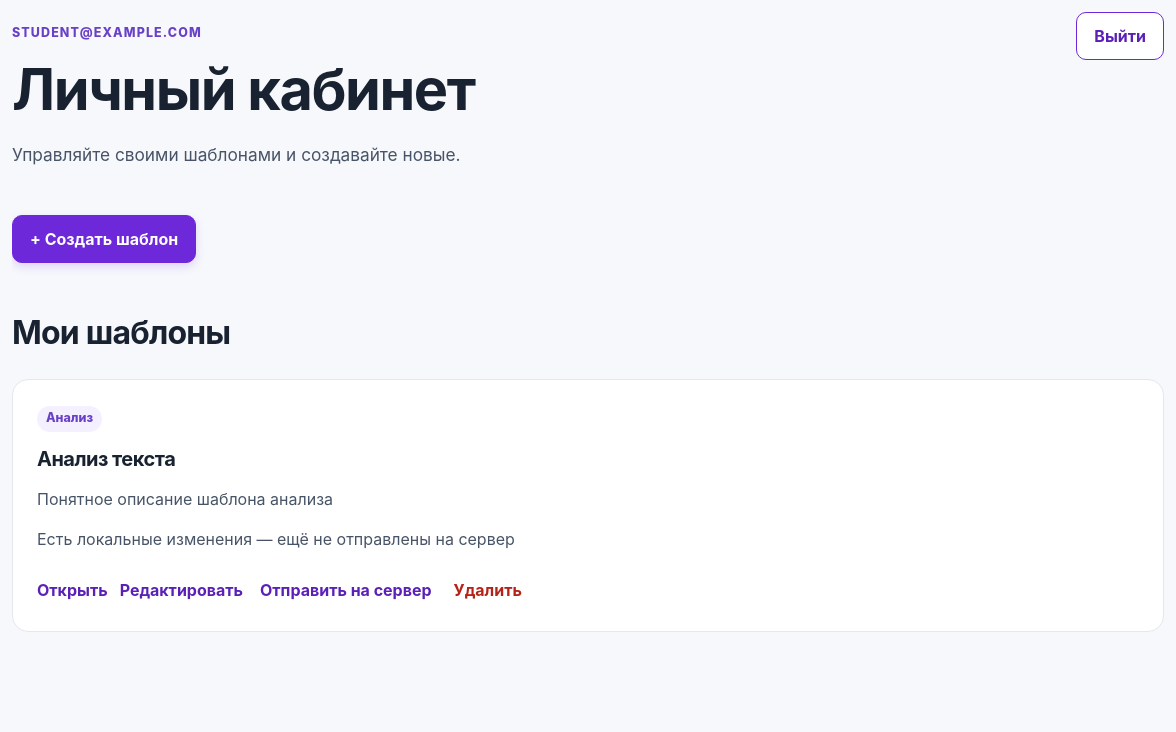
Test case: страницы › отправляет локальные изменения и позволяет повторить после ошибки
Expected: the heading "Анализ текста" is shown, [37,447,175,471]
Step 1. Click the button "Отправить на сервер" → click(346, 590), box [255,573,436,607]
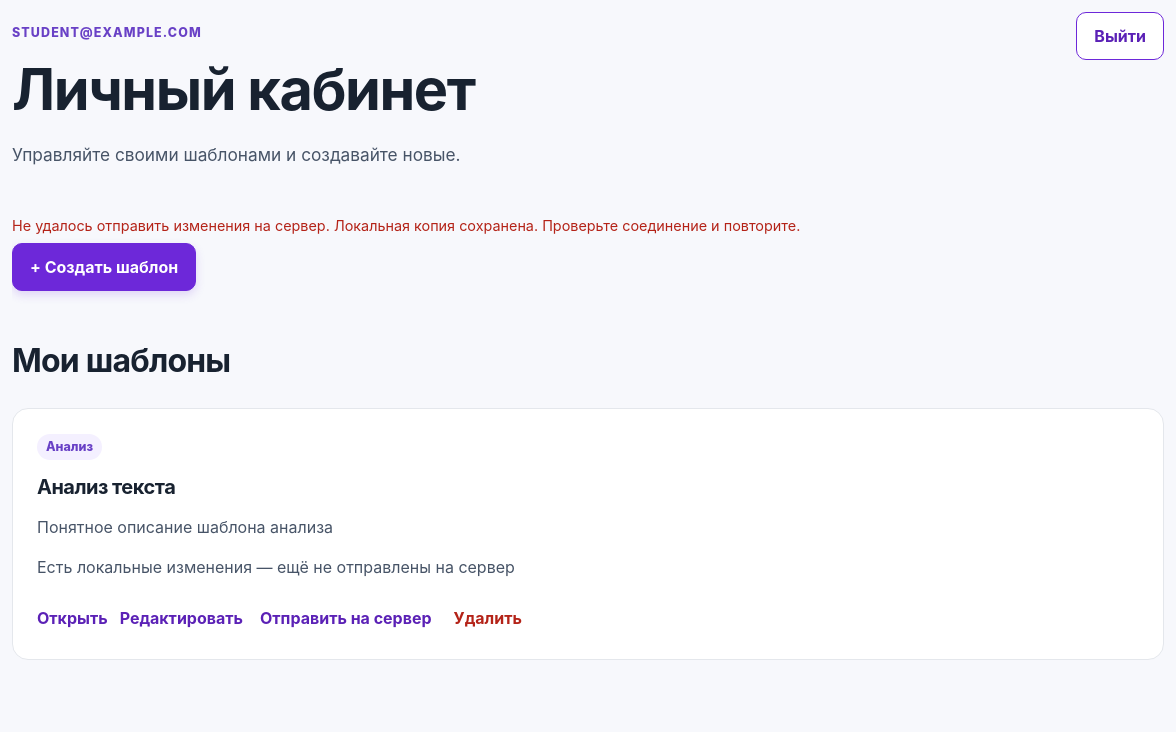
Expected: the message shows "Локальная копия сохранена", [12,216,800,234]
Step 2. Click the button "Отправить на сервер" → click(346, 618), box [255,601,436,635]
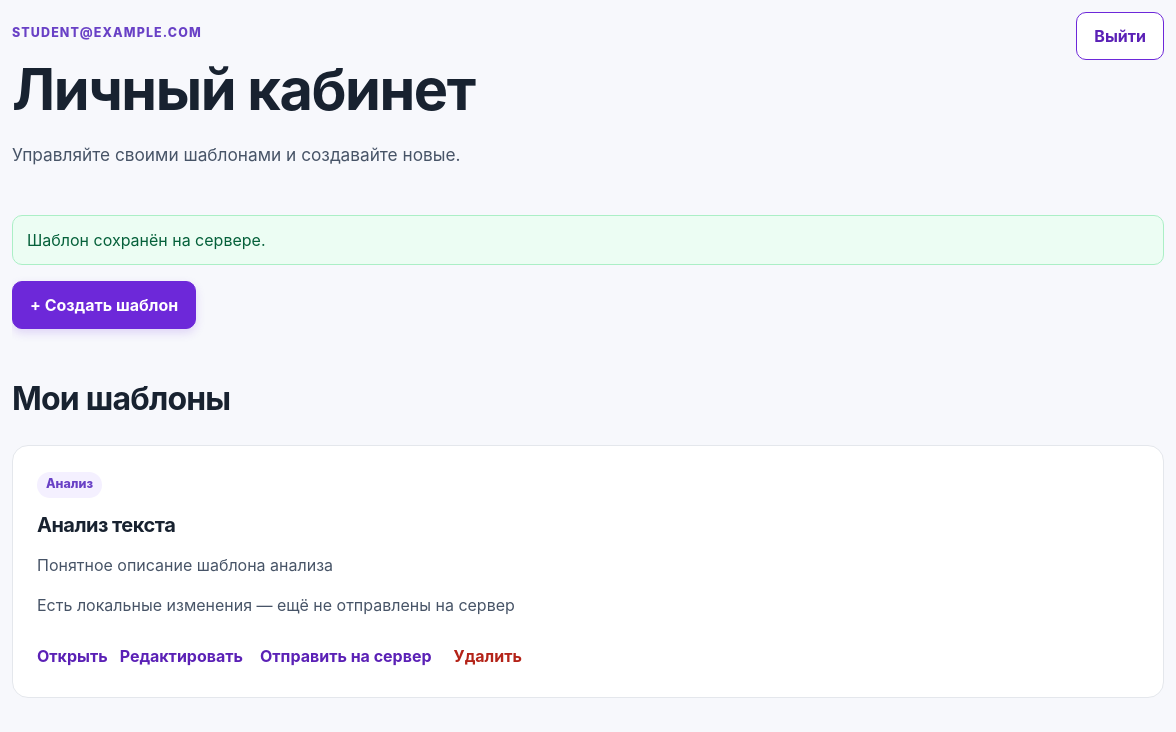
Expected: the text "Шаблон сохранён на сервере." is shown, [12,214,1164,264]
